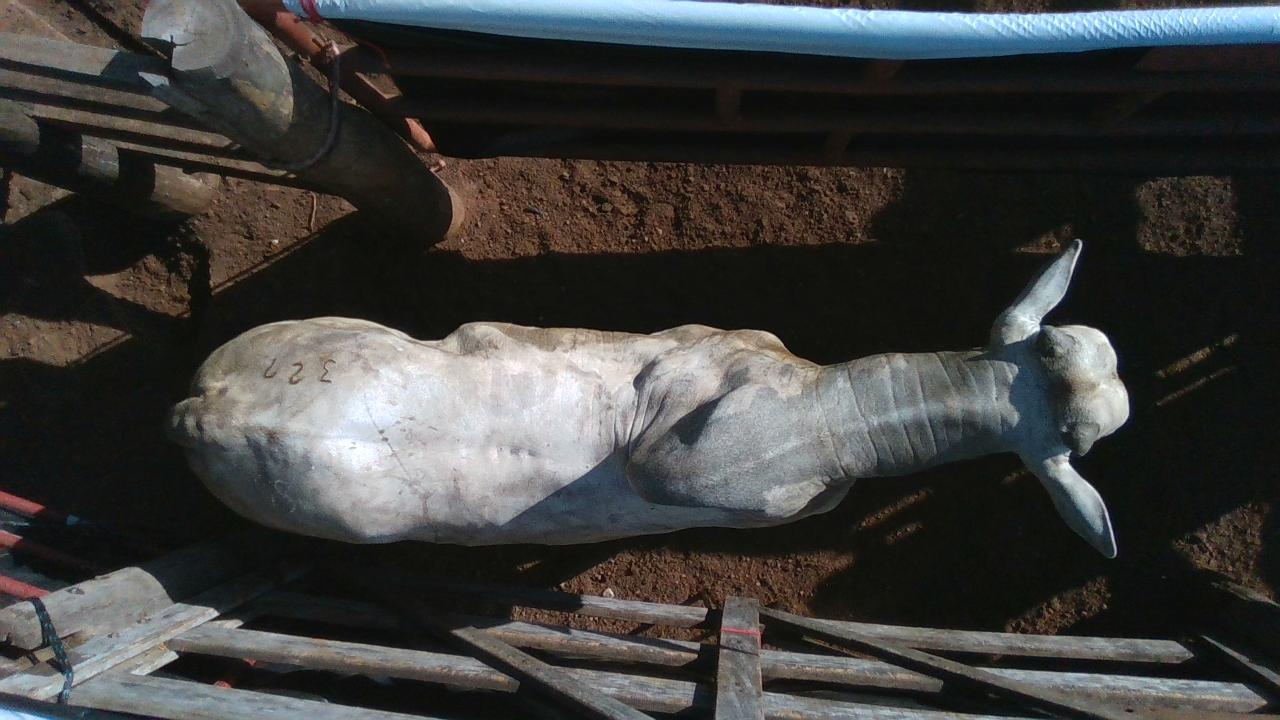cattle: (164, 235, 1131, 558)
